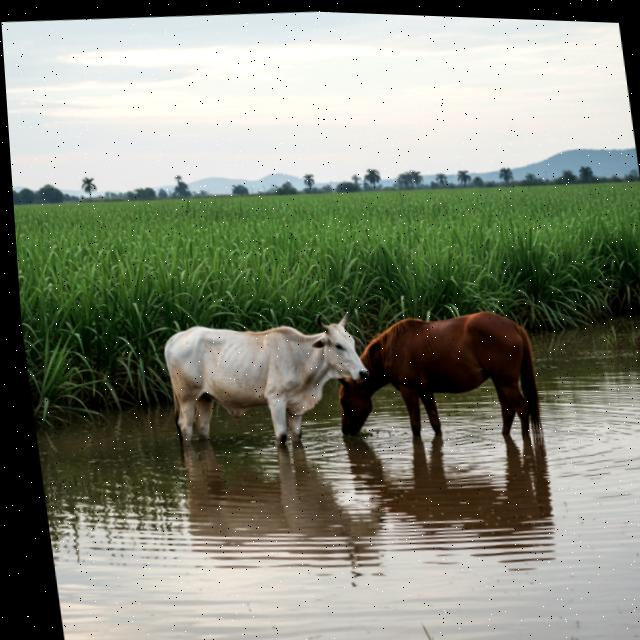cow: (144, 305, 389, 469)
horse: (315, 298, 561, 466)
